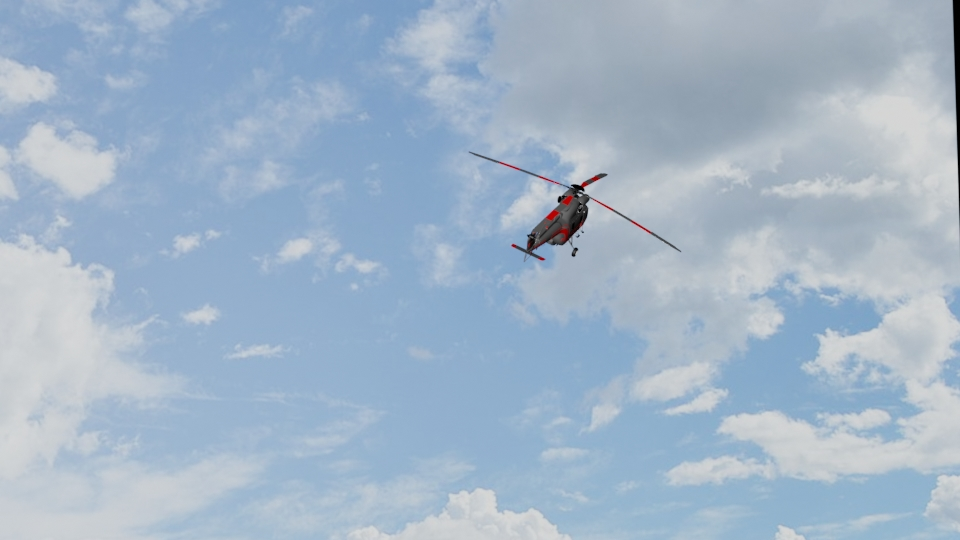heli: (507, 164, 622, 269)
